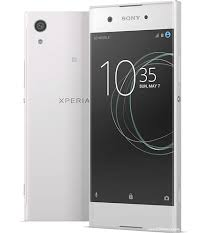sony: (85, 1, 182, 232), (21, 6, 89, 221)
